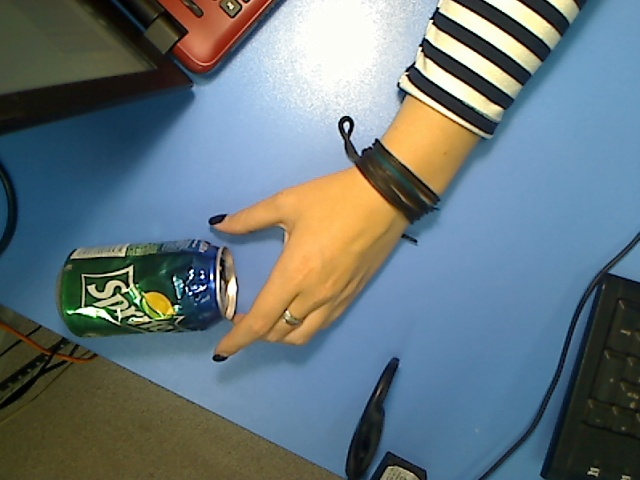can: (55, 246, 238, 336)
